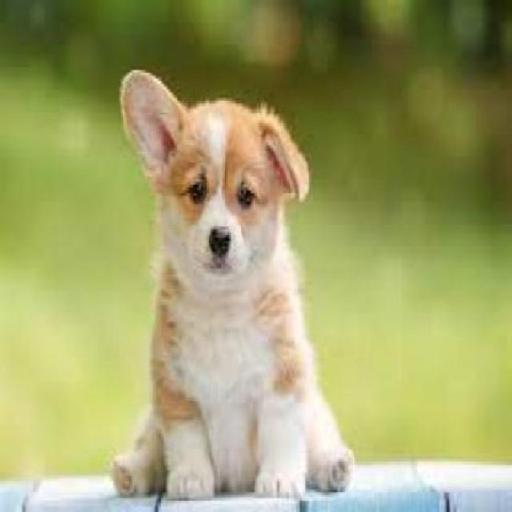Dog: (120, 86, 356, 496)
